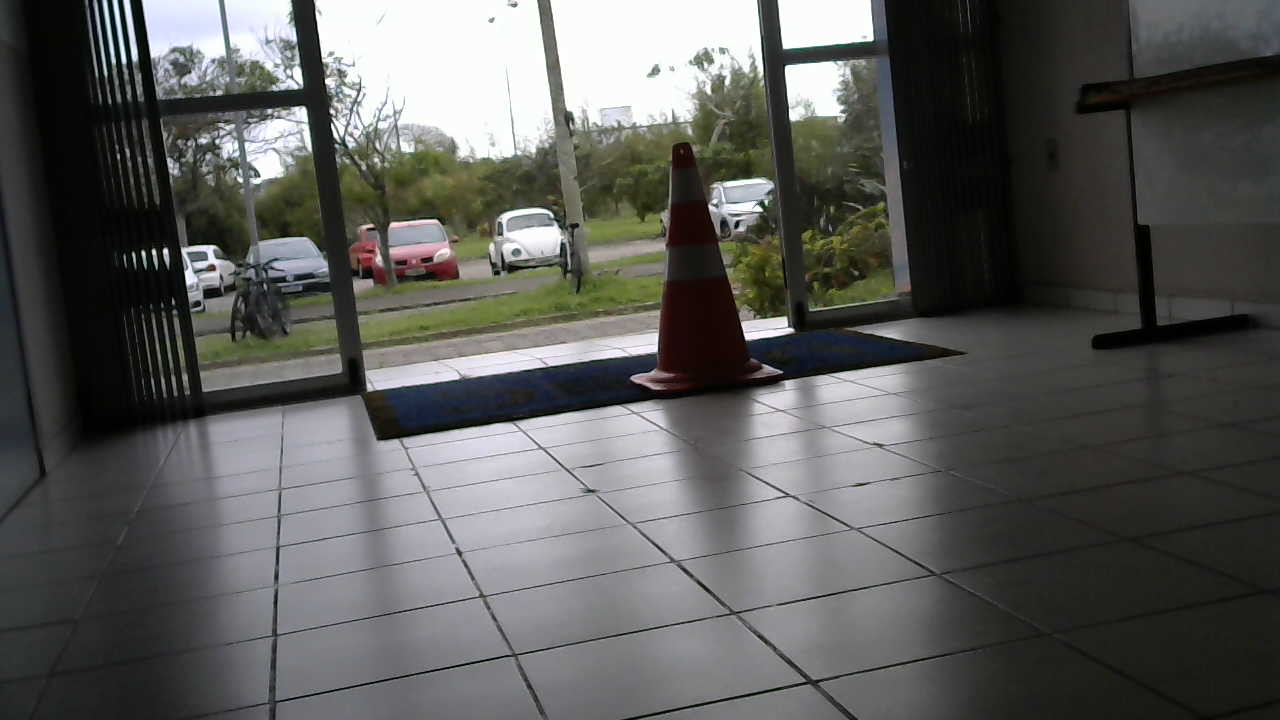cone: (634, 142, 785, 396)
